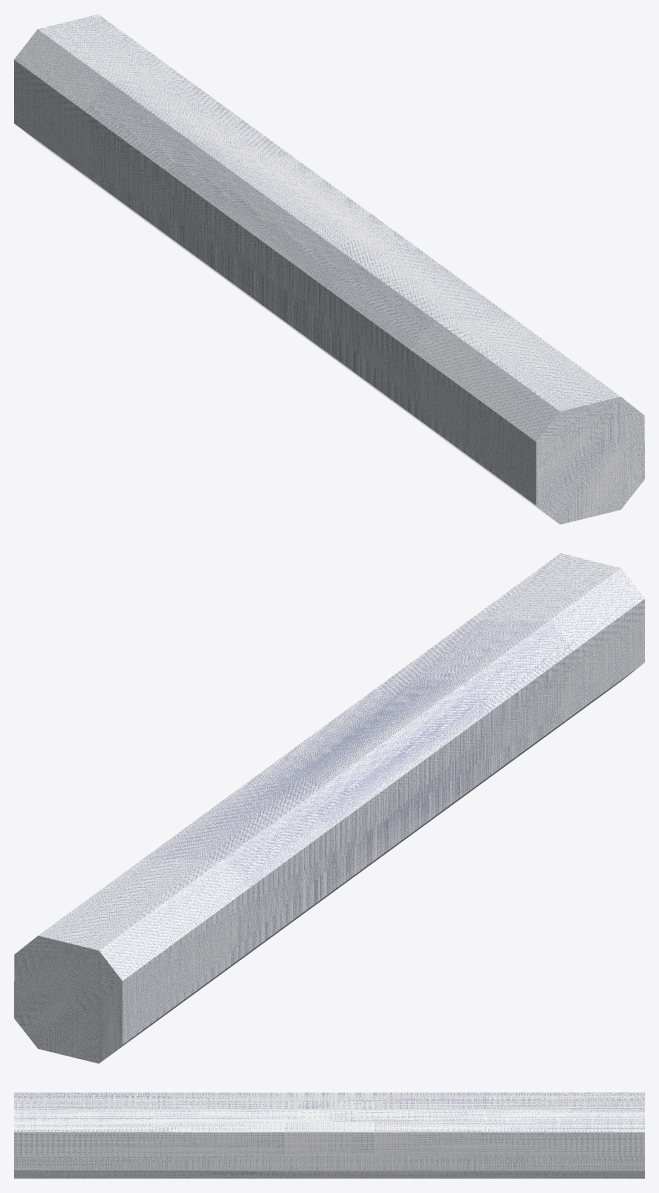
File: octa.fbx
3 views of the same model, one above another, from view 1: azimuth 30°, elevation 25°; view 2: azimuth 150°, elevation 25°; view 3: azimuth 270°, elevation 25° (orthographic). The views are drawn at different scales.
Visible parts, largest first — view 1: Model; view 2: Model; view 3: Model.
Boxes of the visible parts, <box> form: Model: <box>14,14,644,524</box>; Model: <box>14,553,644,1063</box>; Model: <box>14,1092,644,1178</box>.
Size of the model in its own units: 55.1 by 54.9 by 459.
